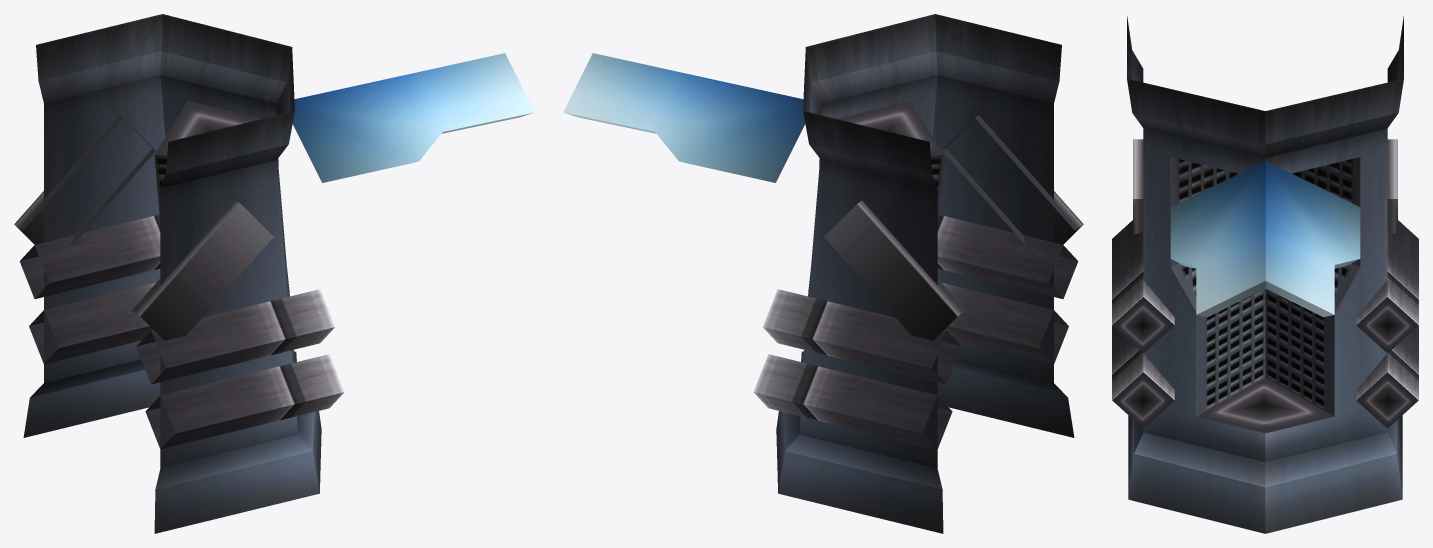
File: cryopodOpen.fbx
3 renders of one model, left to right at view 1: azimuth 30°, elevation 25°; view 2: azimuth 150°, elevation 25°; view 3: azimuth 270°, elevation 25°, orthographic. The views are drawn at different scales.
Visible parts, largest first — view 1: cryopodOpen; view 2: cryopodOpen; view 3: cryopodOpen.
Boxes of the visible parts, box(x1,y1,x2,y2) form: cryopodOpen: box(14, 14, 534, 533); cryopodOpen: box(563, 14, 1083, 533); cryopodOpen: box(1112, 16, 1418, 533).
Bounding box in the file's own units: 3.67 × 3.19 × 2.18.
